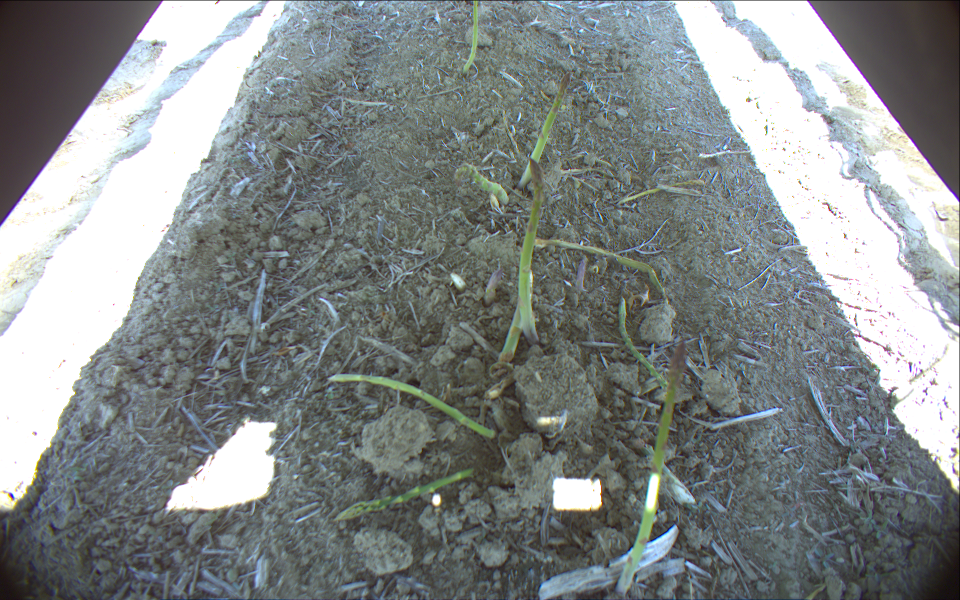aspa: (611, 337, 689, 596), (515, 68, 573, 192), (525, 157, 546, 343), (452, 158, 510, 209), (461, 1, 483, 79)
